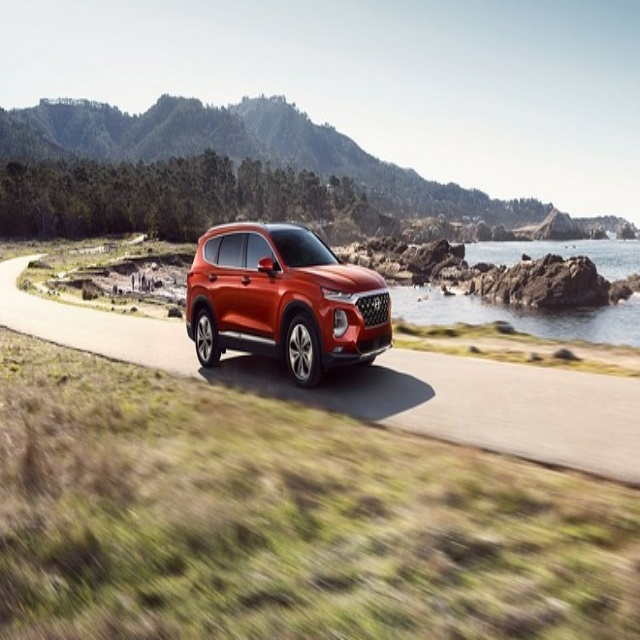Car: (184, 219, 395, 392)
